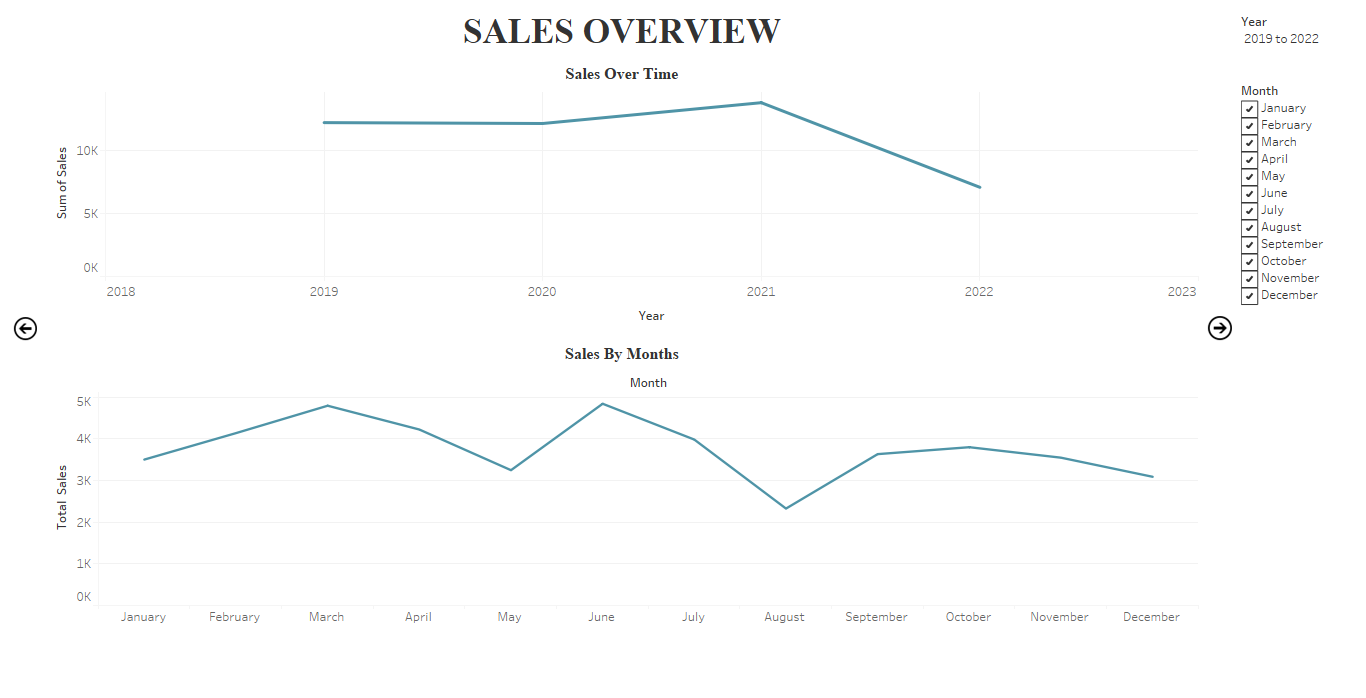

What the dashboard file says about the page in this screenshot:
{"tool":"tableau","page":{"name":"SALES_OVERVIEW","canvas":[1000,1000],"units":"permille","ordinal":3},"visuals":[{"type":"dashboard-object","box":[7,14.3,24.6,971.4]},{"type":"title","box":[31.6,14.3,830.4,83.9]},{"type":"dashboard-object","box":[861.9,14.3,24.8,971.4]},{"type":"filter","title":"Sheet 5","param":"[federated.05c219z03sjcpc14ee3le0vki7ff].[none:Year:qk]","box":[886.8,14.3,106.2,123.2]},{"type":"worksheet","title":"Sheet 5","mark":"Line","rows":["Sum of Sales"],"cols":["Year"],"box":[31.6,98.2,830.4,500]},{"type":"filter","title":"Sheet 3","param":"[federated.140ukc81kql50n110x6zn0yb4kc6].[none:Month:nk]","box":[886.8,137.5,106.2,498.2]},{"type":"worksheet","title":"Sheet 3","mark":"Line","rows":["Total  Sales"],"cols":["Month"],"box":[31.6,598.2,830.4,387.5]}]}

Visuals, with their boxes on the dashboard's canvas, which has no fixed pixel size, in thousandths of its width and height (x1, y1, x2, y2). These are canvas units, not pixel positions in the 1366x698 screenshot, which may show the page scaled, cropped or inside an application window:
dashboard-object: l=7, t=14, r=32, b=986
title: l=32, t=14, r=862, b=98
dashboard-object: l=862, t=14, r=887, b=986
"Sheet 5" filter: l=887, t=14, r=993, b=138
"Sheet 5" worksheet (Line marks): l=32, t=98, r=862, b=598
"Sheet 3" filter: l=887, t=138, r=993, b=636
"Sheet 3" worksheet (Line marks): l=32, t=598, r=862, b=986
